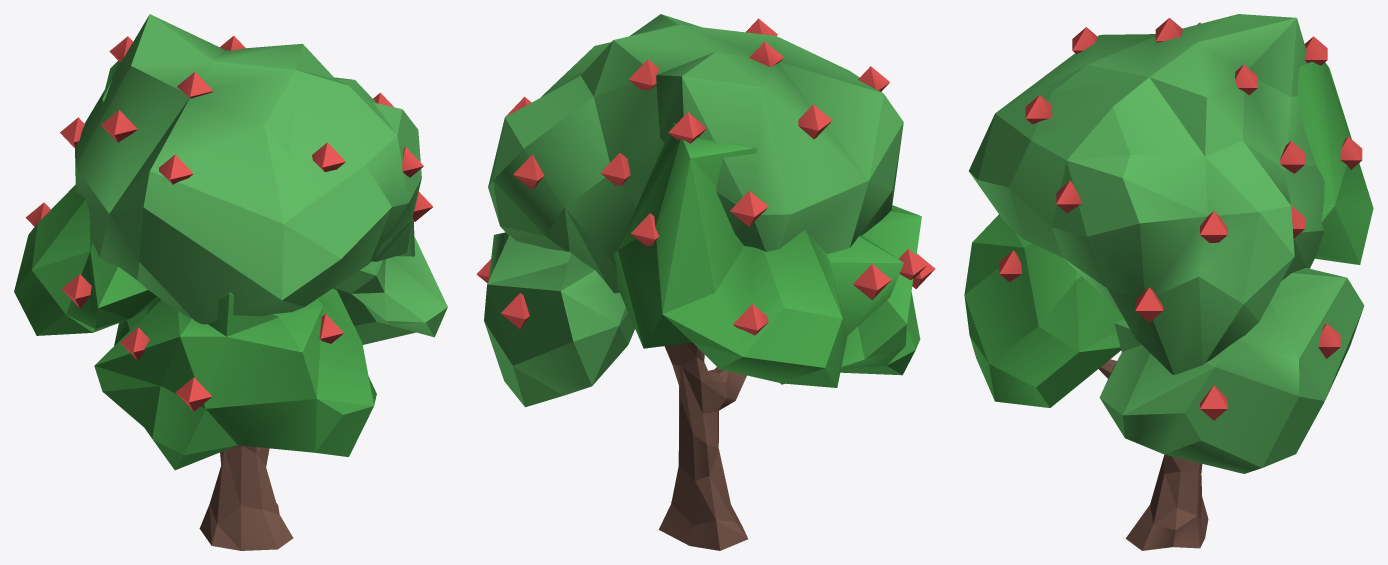
The model's file is tree_010.glb.
3 renders of one model, left to right at view 1: azimuth 30°, elevation 25°; view 2: azimuth 150°, elevation 25°; view 3: azimuth 270°, elevation 25°, orthographic. The views are drawn at different scales.
Parts seen in each view (by area): view 1: tree_010; view 2: tree_010; view 3: tree_010.
Boxes of the visible parts, x1,y1,x2,y2 form: tree_010: [14, 14, 447, 550]; tree_010: [476, 14, 935, 550]; tree_010: [964, 14, 1373, 550].
Size of the model in its own units: 5.2 by 6.63 by 4.9.
Materials: 1 (1 with a texture image).
